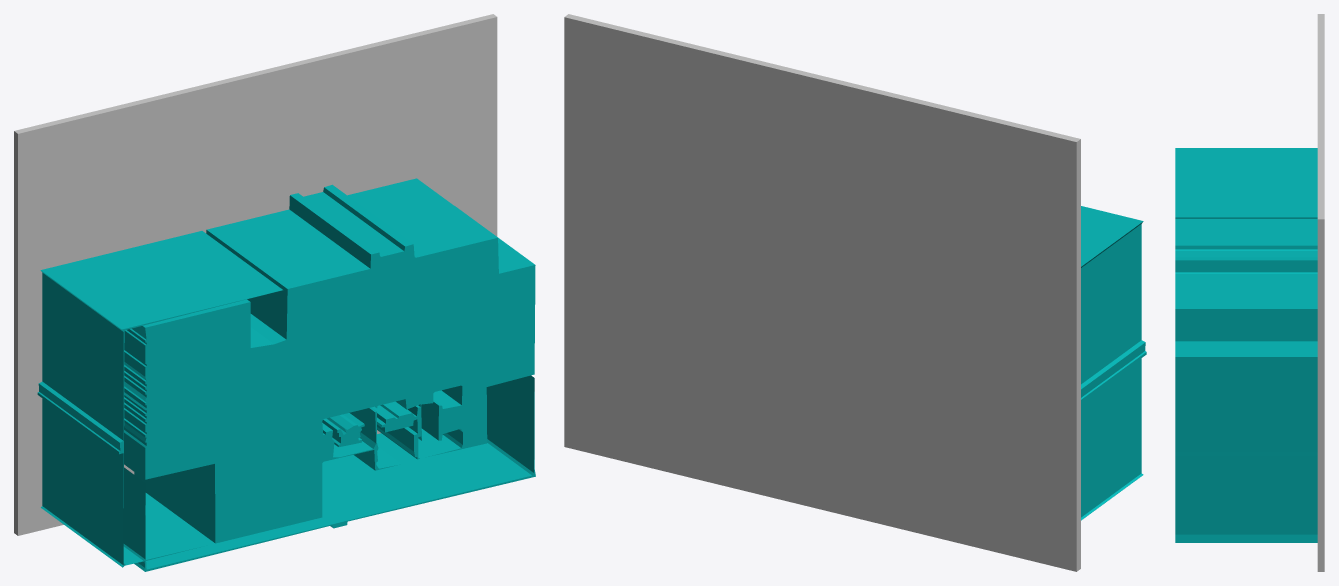
The picture shows the model from 3 angles, left to right: view 1: azimuth 30°, elevation 25°; view 2: azimuth 150°, elevation 25°; view 3: azimuth 270°, elevation 25°; orthographic projection. The views are drawn at different scales.
Parts seen in each view (by area): view 1: world; view 2: world; view 3: world.
Boxes of the visible parts, left/top/right/bottom form: world: left=14, top=14, right=535, bottom=571; world: left=564, top=14, right=1146, bottom=571; world: left=1175, top=14, right=1324, bottom=571.
Size of the model in its own units: 10.23 by 8.2 by 3.15.
